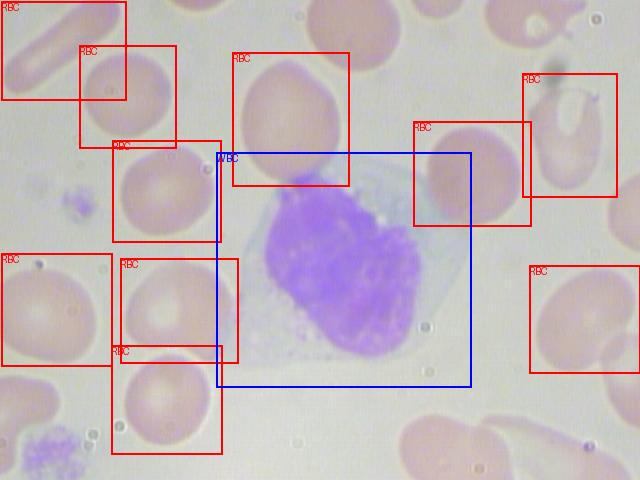RBC: (232, 52, 349, 186), (1, 253, 112, 366), (120, 258, 238, 363), (413, 121, 531, 226), (1, 1, 126, 100), (111, 345, 222, 454), (529, 265, 640, 373), (522, 73, 617, 197), (112, 140, 221, 242), (79, 45, 176, 148)
WBC: (216, 152, 471, 387)
